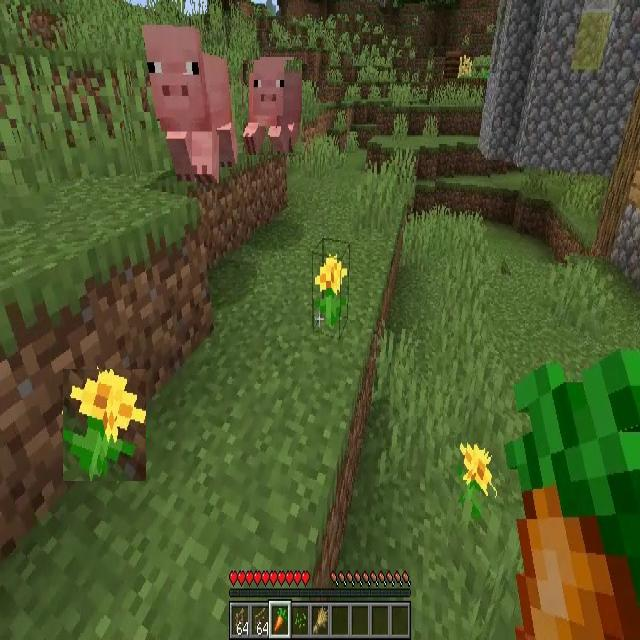flower: (63, 369, 146, 481), (317, 255, 348, 335), (461, 442, 497, 498)
pig: (143, 29, 236, 178), (243, 60, 302, 155)
